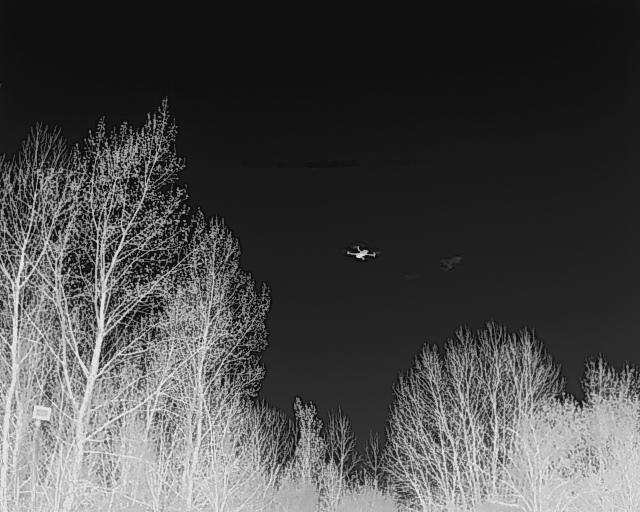drone: (340, 238, 384, 271)
